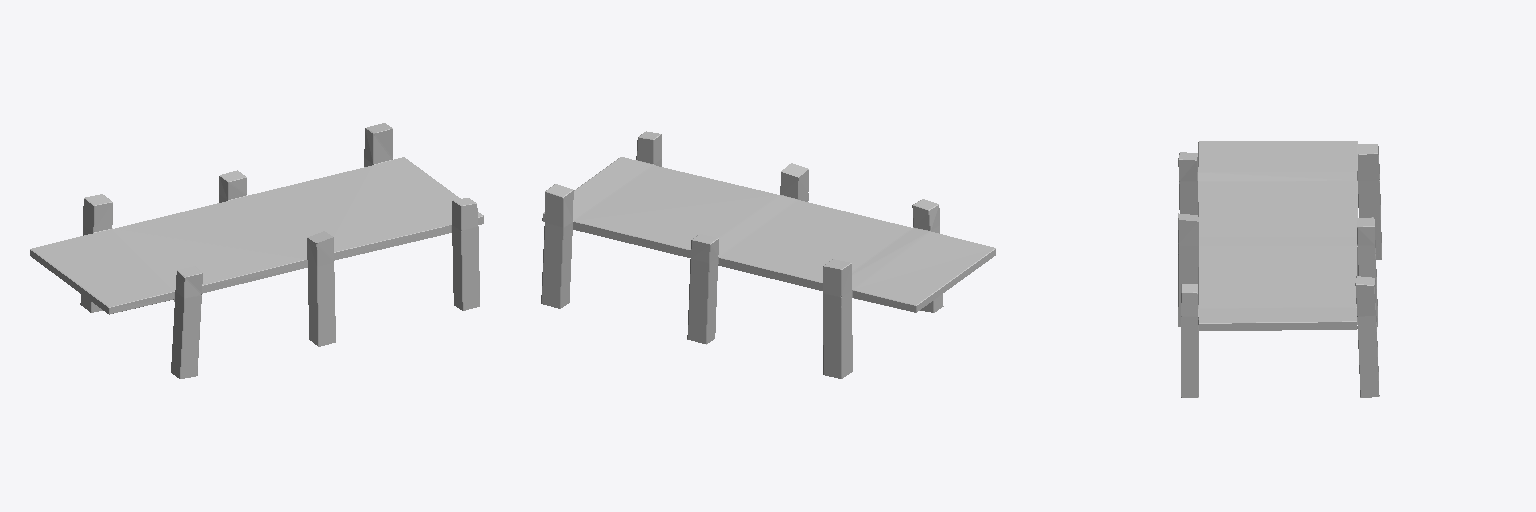
The model's file is Jetty2.obj.
3 renders of one model, left to right at view 1: azimuth 30°, elevation 25°; view 2: azimuth 150°, elevation 25°; view 3: azimuth 270°, elevation 25°, orthographic.
Visible parts, largest first — view 1: Cube; view 2: Cube; view 3: Cube.
Part boxes in pixels (left/top/right/bottom): Cube: left=30, top=123, right=483, bottom=378; Cube: left=541, top=131, right=995, bottom=378; Cube: left=1178, top=141, right=1381, bottom=397.
Bounding box in the file's own units: 5.43 × 1.58 × 2.55.